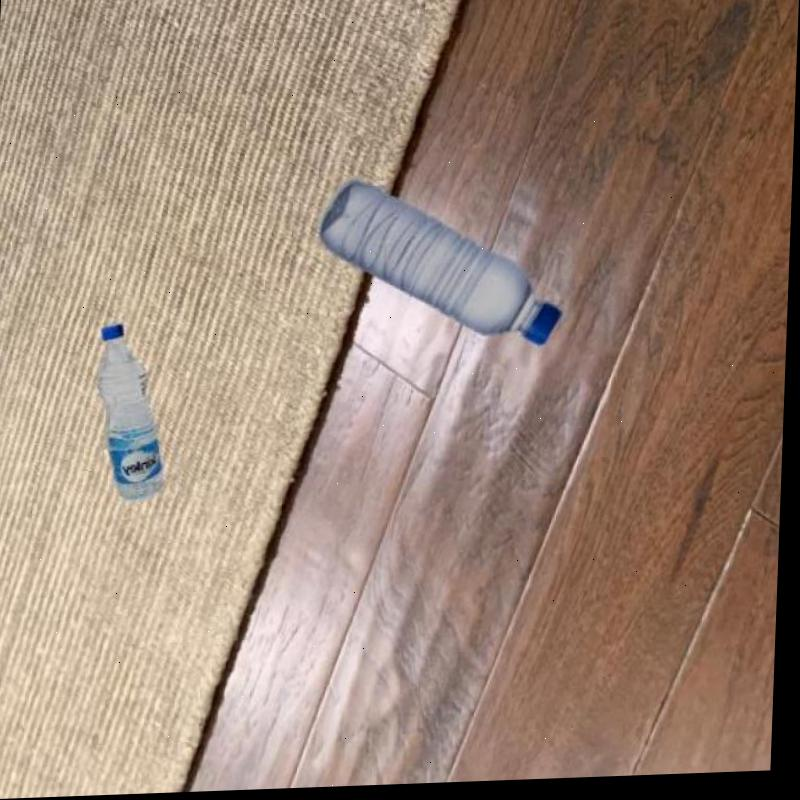botella: (315, 171, 577, 355), (95, 321, 175, 502)
